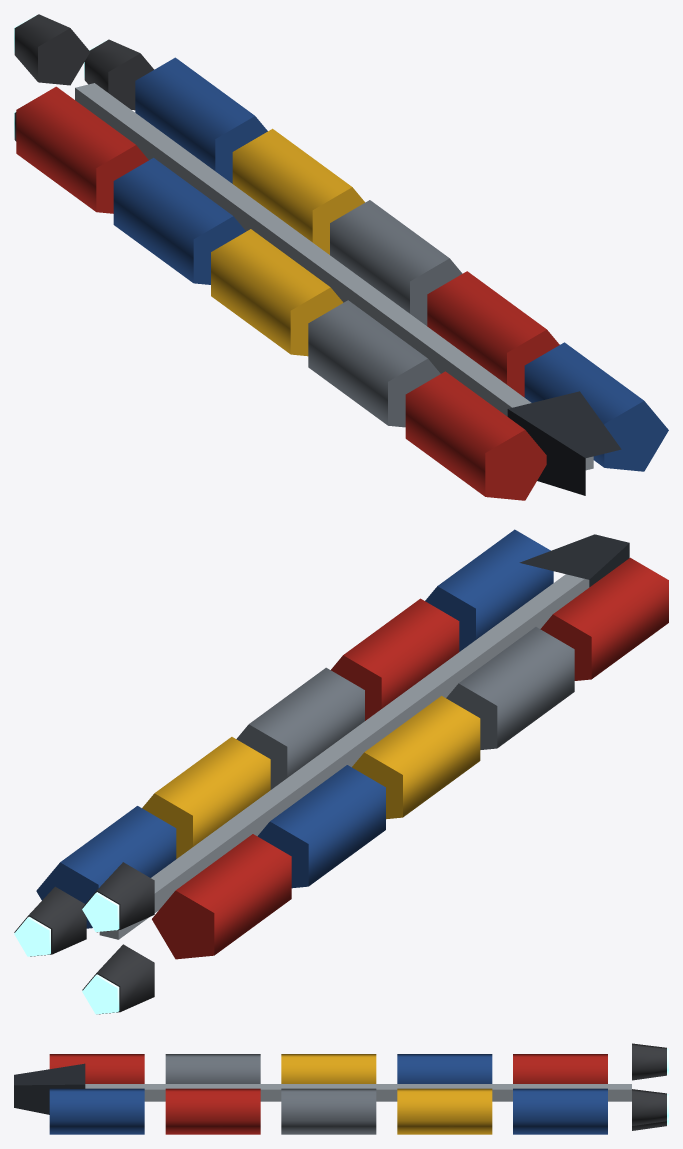
File: space_ship_logistics_mk4_lod1.glb
The picture shows the model from 3 angles, top to bottom: view 1: azimuth 30°, elevation 25°; view 2: azimuth 150°, elevation 25°; view 3: azimuth 270°, elevation 25°; orthographic projection. The views are drawn at different scales.
Parts seen in each view (by area): view 1: body, pod_4_0, pod_0_0, pod_1_0, pod_3_0, pod_2_0, pod_0_1, pod_2_1, pod_1_1, pod_3_1, pod_4_1, engine_1 (+1 smaller); view 2: body, pod_0_0, pod_2_0, pod_3_0, pod_1_0, pod_4_0, pod_2_1, pod_3_1, pod_1_1, pod_4_1, pod_0_1, engine_2 (+2 smaller); view 3: body, pod_1_1, pod_2_1, pod_3_1, pod_4_1, pod_0_1, pod_1_0, pod_2_0, pod_3_0, pod_0_0, pod_4_0, engine_1 (+2 smaller).
Part boxes in pixels (x1,y1,x2,y2): body: [75, 83, 621, 495]; pod_4_0: [405, 371, 546, 500]; pod_0_0: [16, 86, 148, 213]; pod_1_0: [113, 158, 245, 284]; pod_3_0: [308, 300, 440, 427]; pod_2_0: [211, 229, 343, 356]; pod_0_1: [135, 57, 267, 183]; pod_2_1: [330, 200, 462, 325]; pod_1_1: [232, 128, 364, 254]; pod_3_1: [427, 271, 559, 397]; pod_4_1: [524, 342, 668, 471]; engine_1: [14, 14, 89, 85]; body: [99, 534, 629, 939]; pod_0_0: [152, 834, 291, 959]; pod_2_0: [352, 696, 480, 819]; pod_3_0: [446, 627, 574, 749]; pod_1_0: [257, 765, 385, 888]; pod_4_0: [540, 557, 668, 680]; pod_2_1: [236, 667, 364, 789]; pod_3_1: [331, 598, 459, 720]; pod_1_1: [142, 737, 270, 858]; pod_4_1: [425, 529, 553, 651]; pod_0_1: [36, 806, 176, 928]; engine_2: [82, 944, 154, 1014]; body: [14, 1063, 631, 1114]; pod_1_1: [397, 1088, 492, 1134]; pod_2_1: [281, 1088, 376, 1134]; pod_3_1: [165, 1088, 260, 1134]; pod_4_1: [49, 1088, 144, 1134]; pod_0_1: [513, 1088, 607, 1134]; pod_1_0: [397, 1054, 492, 1083]; pod_2_0: [281, 1054, 376, 1083]; pod_3_0: [165, 1054, 260, 1083]; pod_0_0: [513, 1054, 607, 1083]; pod_4_0: [49, 1054, 144, 1083]; engine_1: [632, 1043, 668, 1080].
Bounding box in the file's own units: 7.52 × 5.57 × 38.98.
